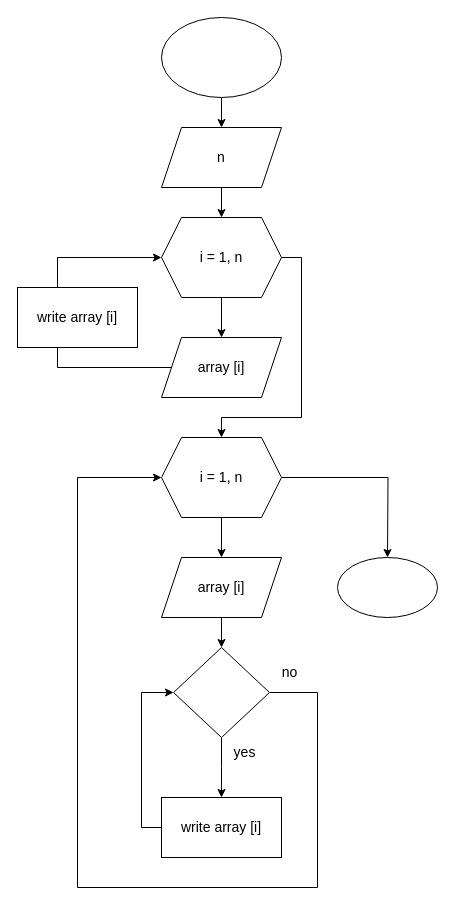
Some shapes in this 455 by 913 pixel diagram are drawn without their labels. Here are the shapes that lost their labels. From the top down, the centre of each, then its label:
At pixel 221 57: "Начало".
At pixel 387 587: "the end".
At pixel 221 692: "count < 3".
